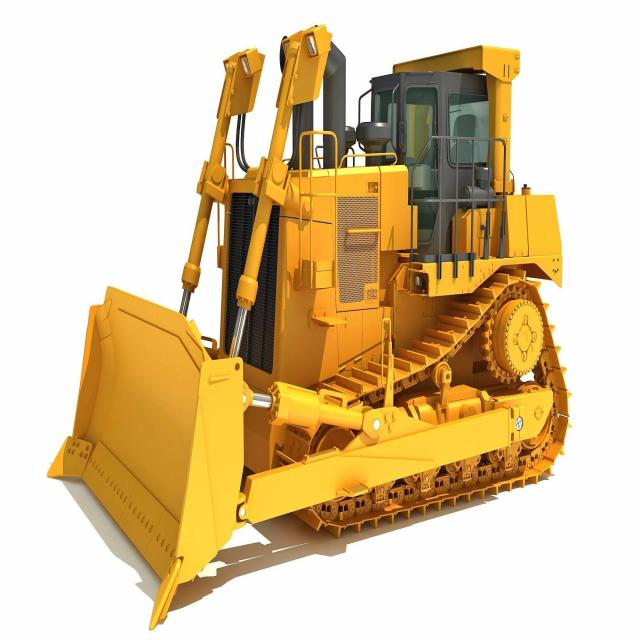Bulldozer: (66, 27, 600, 614)
